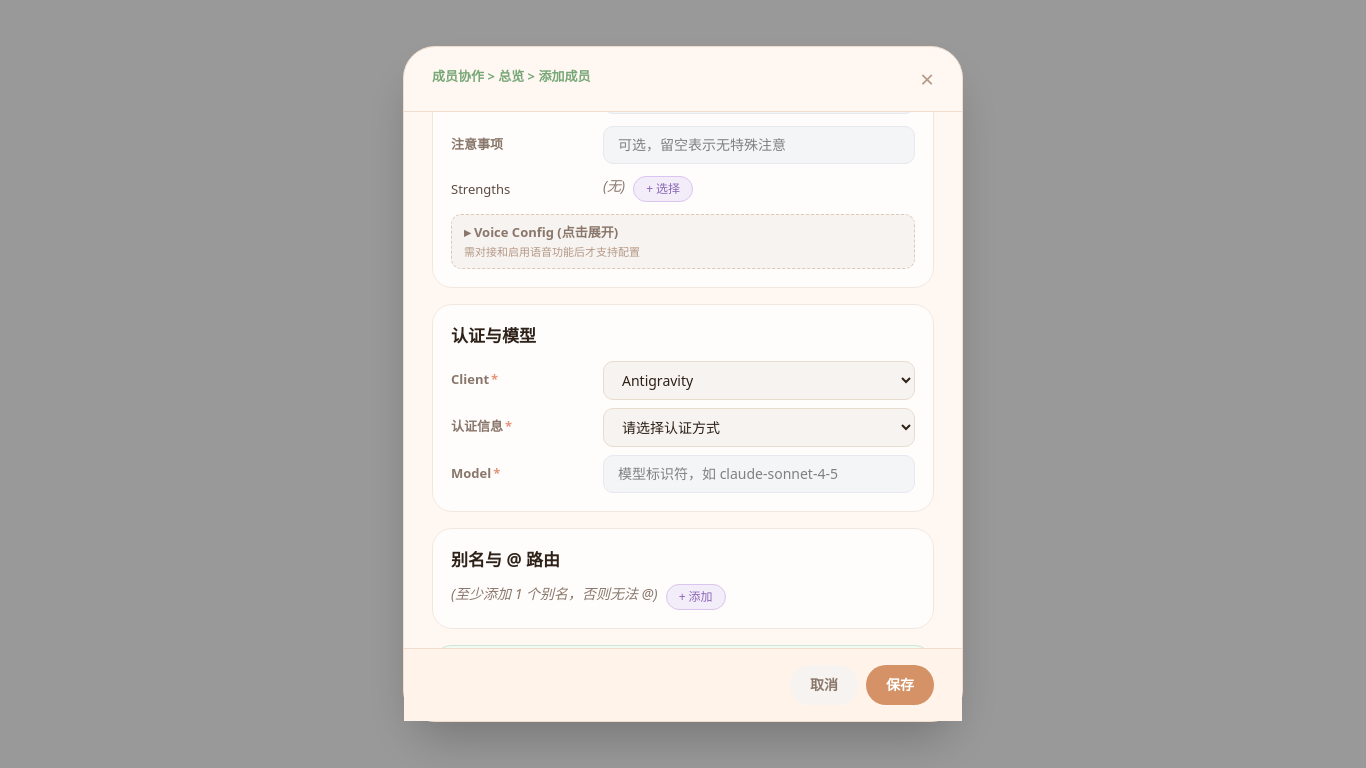
Test: HubAgentEditor › switches to Antigravity branch and shows CLI command field
The width and height of the screenshot is (1366, 768).
(page scrolled)
Select "Antigravity" in the dropdown named "Client" at (759, 380), box x1=603 y1=361 x2=915 y2=400
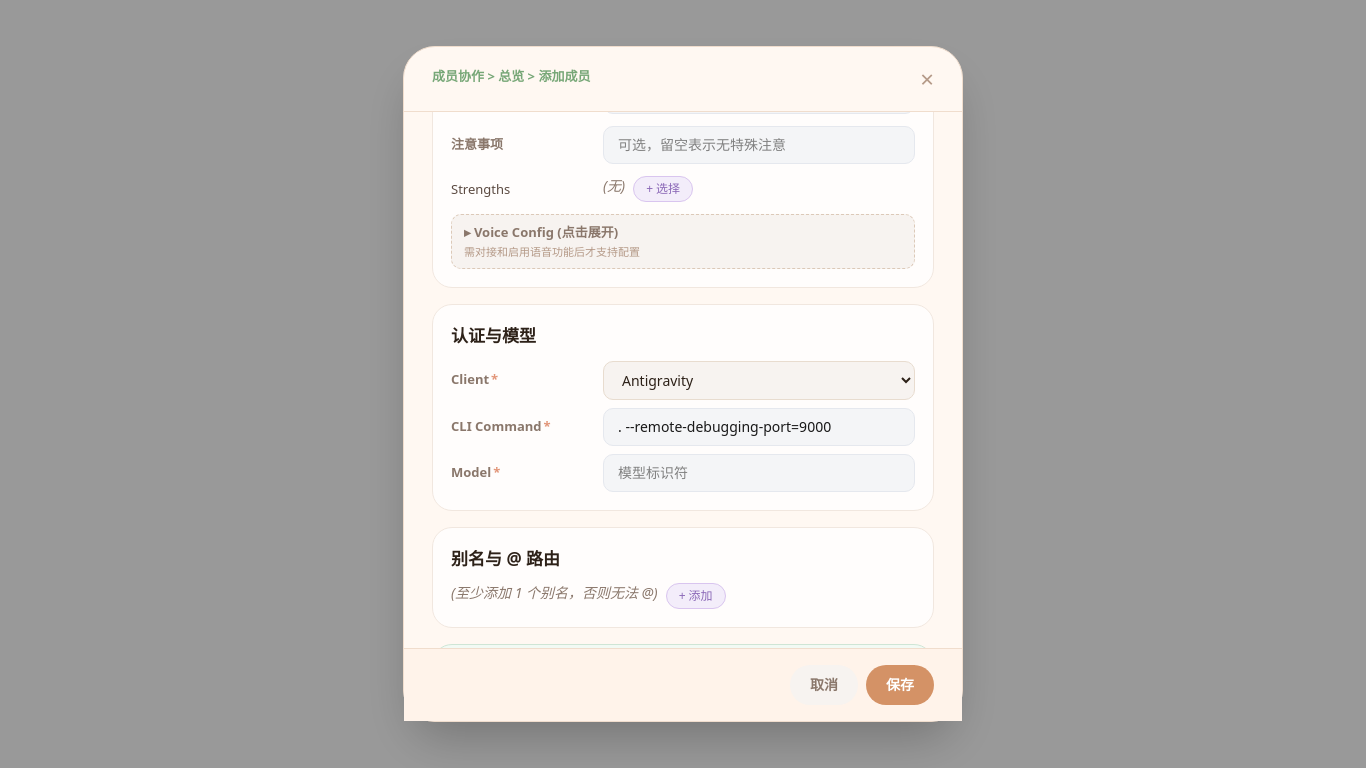
Check: the text "CLI Command" is shown, box x1=451 y1=417 x2=542 y2=435
Check: the dropdown named "认证信息" is gone
